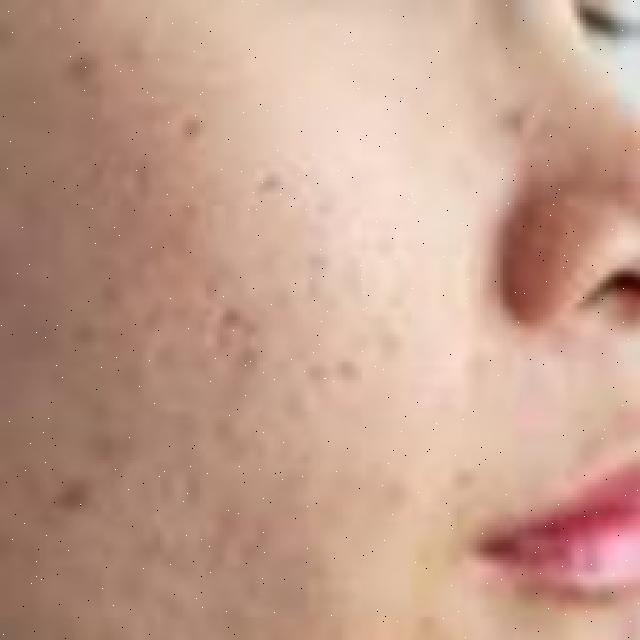Acne: (20, 27, 344, 547)
